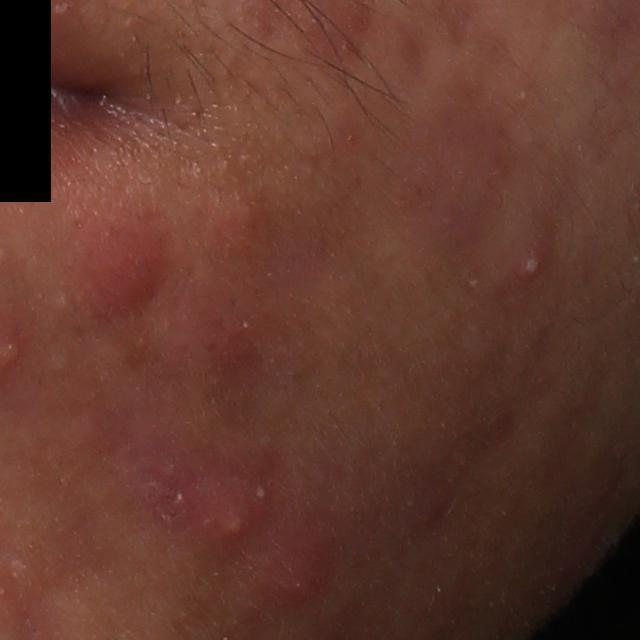papule: (71, 205, 172, 311), (261, 546, 347, 609), (213, 188, 279, 254), (412, 480, 454, 532)
pustule: (186, 476, 287, 556), (512, 241, 552, 283)
